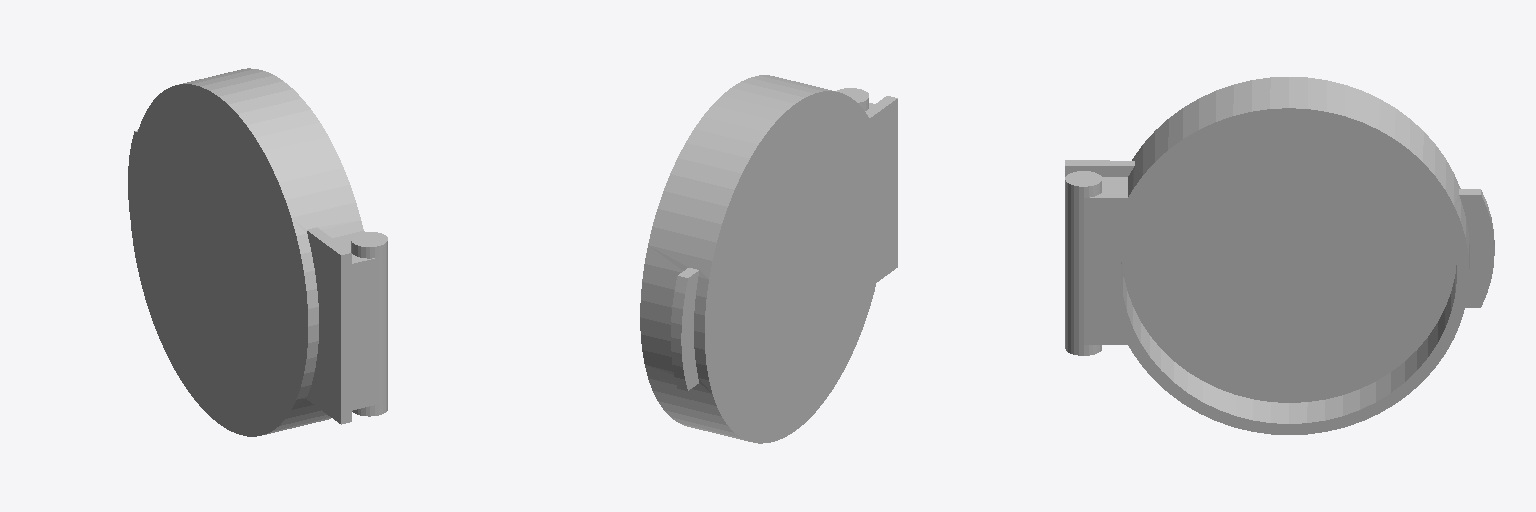
The model's file is torso_l3_5.obj.
3 views of the same model, side by side, from view 1: azimuth 30°, elevation 25°; view 2: azimuth 150°, elevation 25°; view 3: azimuth 270°, elevation 25° (orthographic).
Bounding box in the file's own units: 0.0061 × 0.029 × 0.0345.